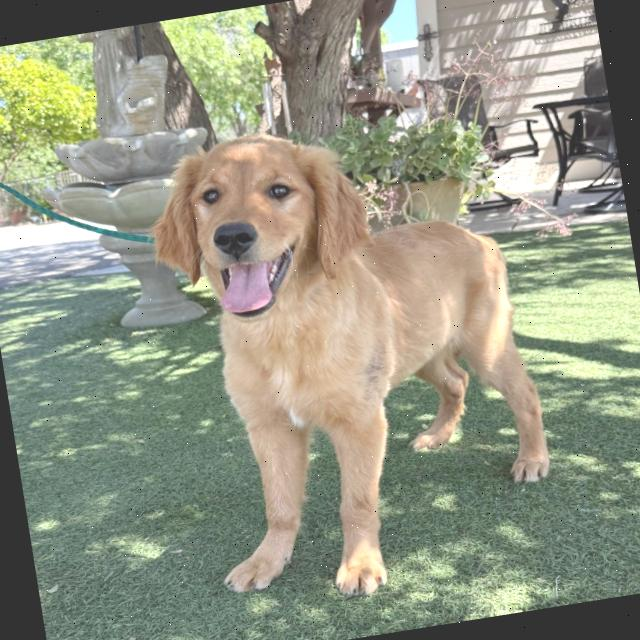golden_retriever_dog: (132, 107, 393, 345)
